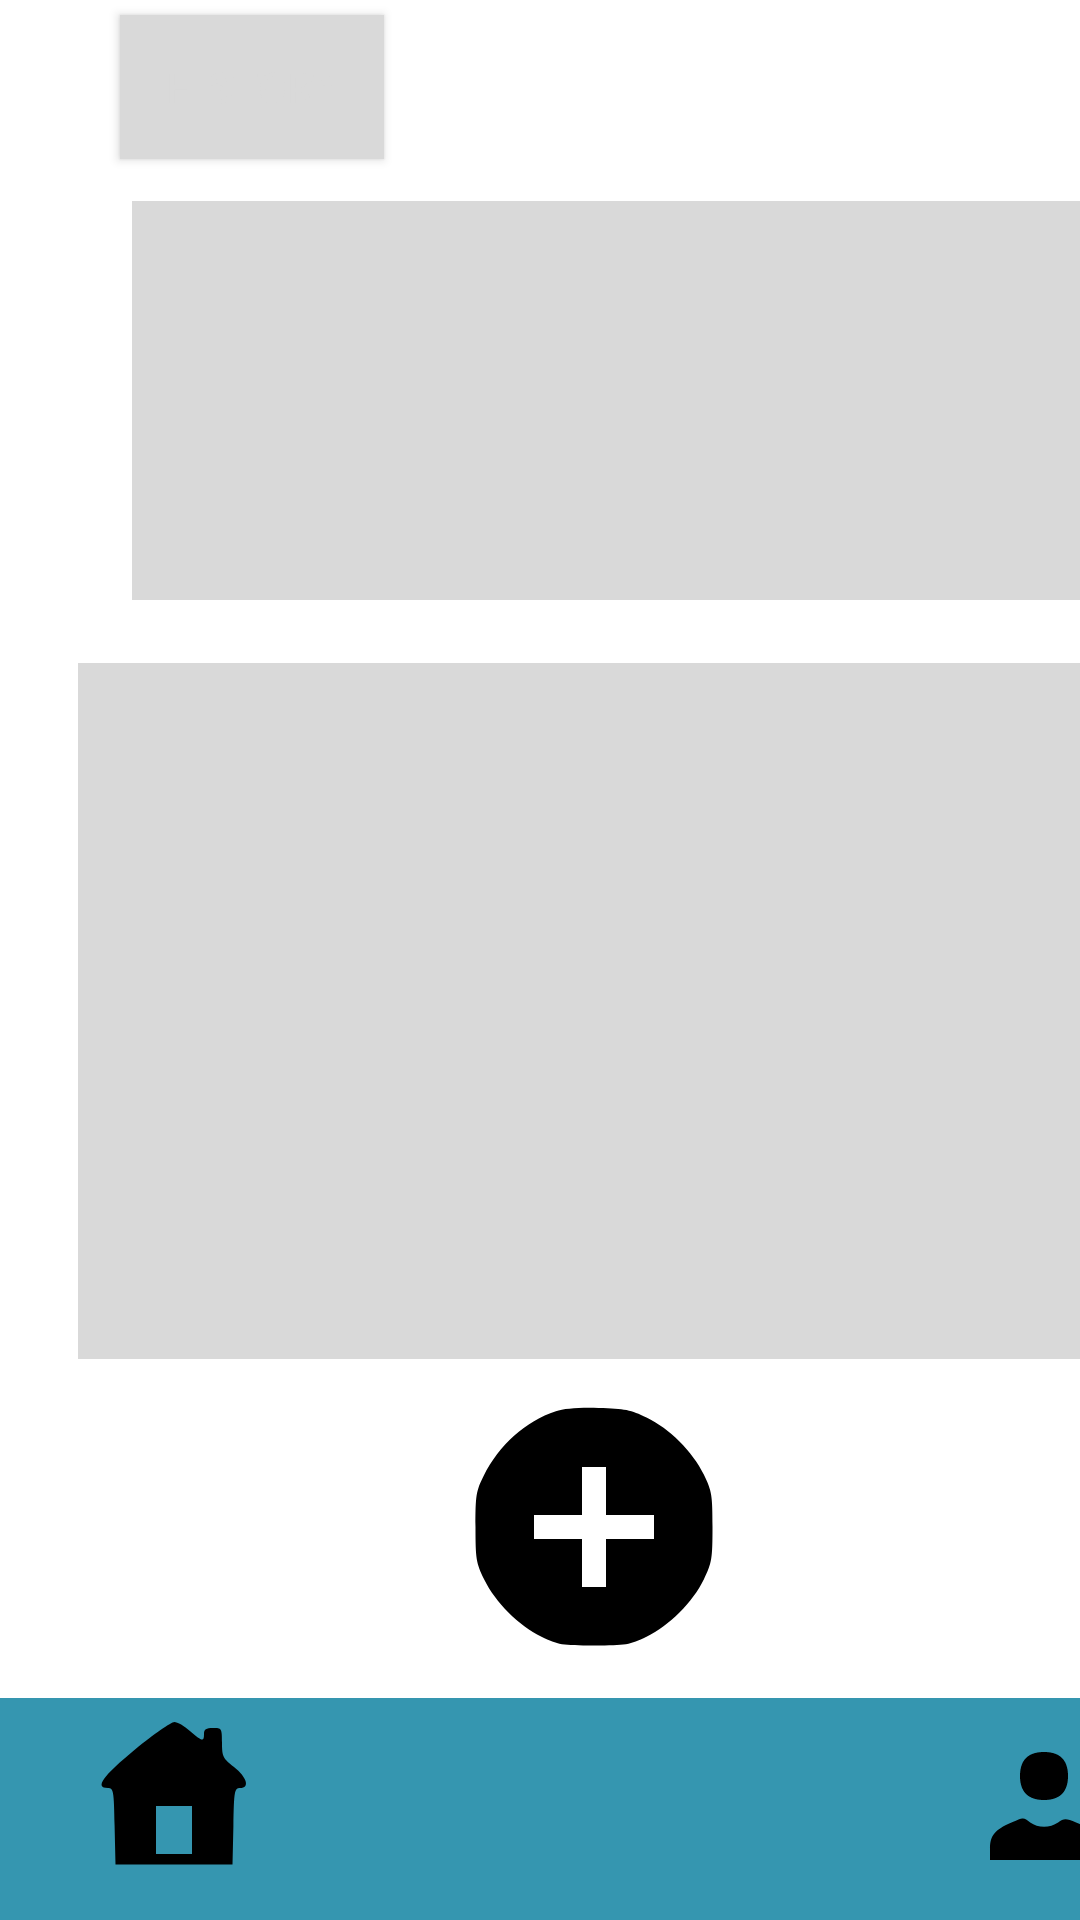

Icons on this 1080 x 1920 Android screen, each with the point to tap as [x,y]:
home page: [174,1800]
plus: [594,1527]
